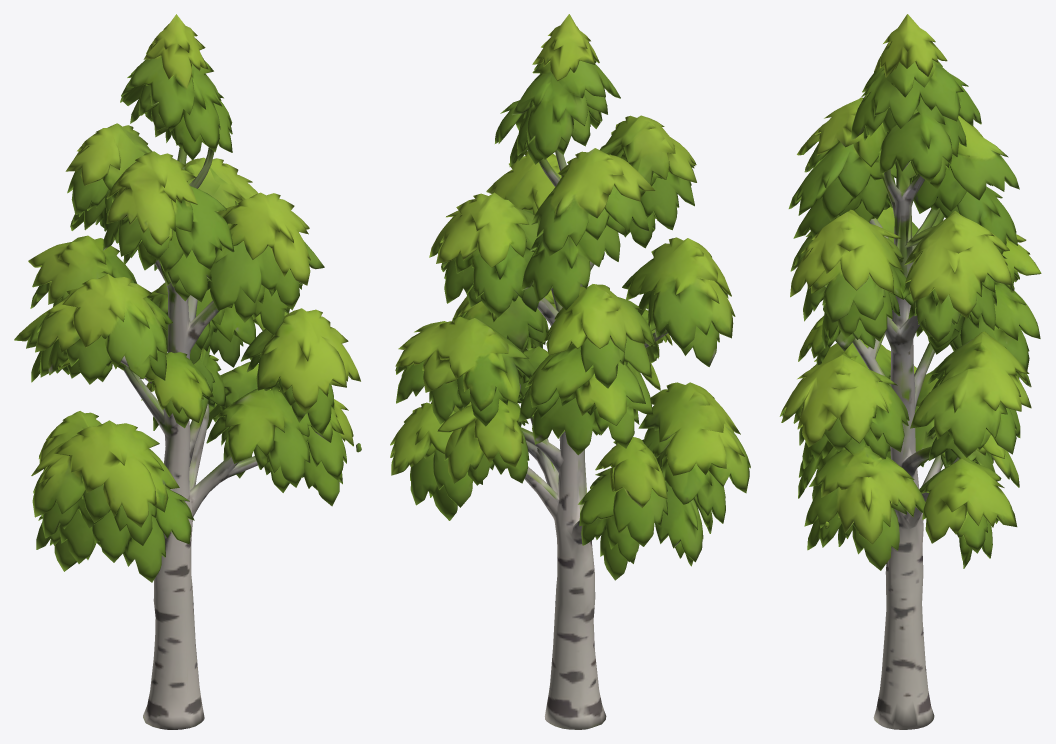
The model's file is tree.glb.
3 views of the same model, side by side, from view 1: azimuth 30°, elevation 25°; view 2: azimuth 150°, elevation 25°; view 3: azimuth 270°, elevation 25° (orthographic).
Parts seen in each view (by area): view 1: node_0; view 2: node_0; view 3: node_0.
Part boxes in pixels (x1,y1,x2,y2): node_0: (14, 14, 361, 729); node_0: (390, 14, 750, 729); node_0: (779, 14, 1041, 729).
Size of the model in its own units: 0.564 by 1.2 by 0.4022.
Materials: 1 (1 with a texture image).
